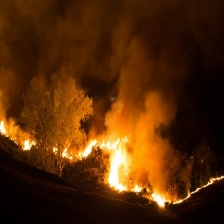fire: (48, 132, 222, 209), (1, 120, 38, 153)
smoke: (1, 2, 211, 131)
